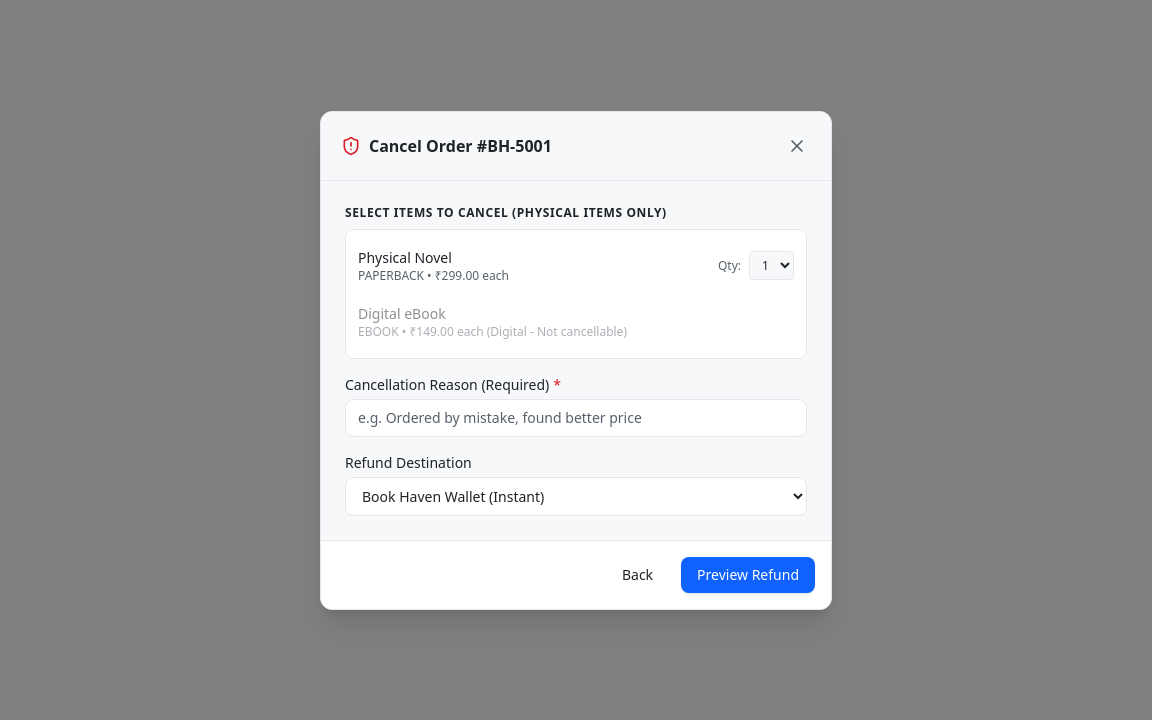
CancelOrderModalTest › previewBeforeConfirm and showsMaskedAccount: previews refund before confirm and displays masked account
Type "Found better deal" into the field labelled "Cancellation Reason (Required)*". click: (576, 418)
box: [345,398,807,436]
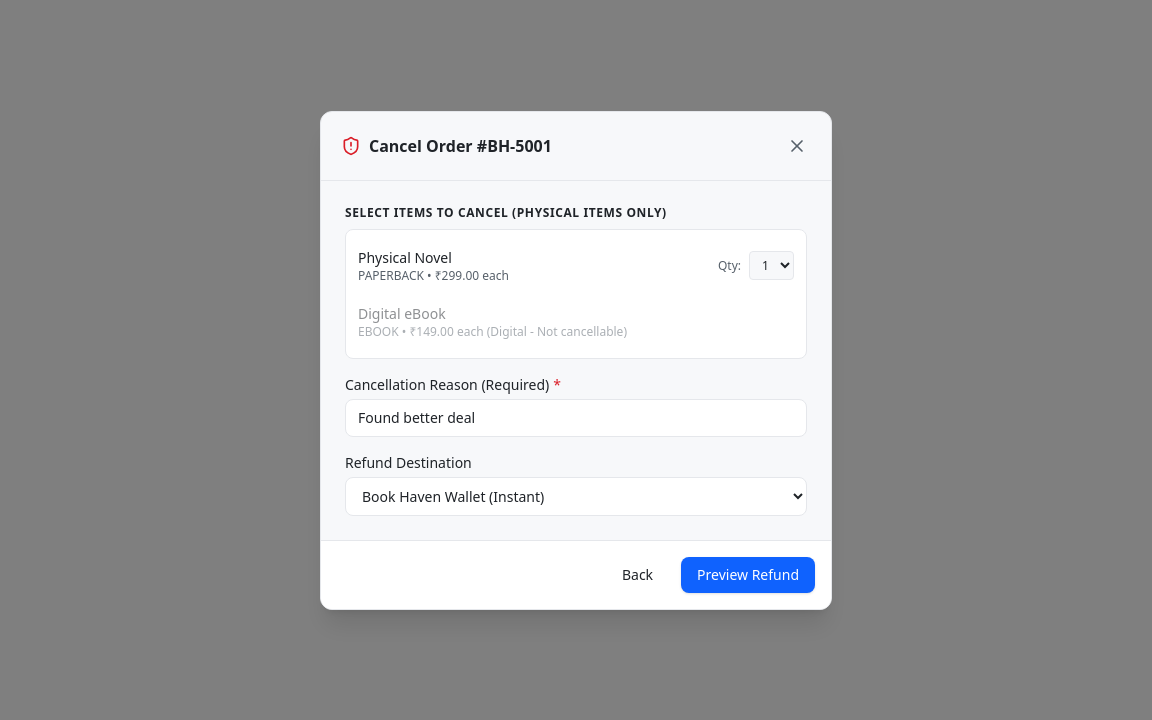
Click the button "Preview Refund". click: click(748, 574)
box: [681,556,815,592]
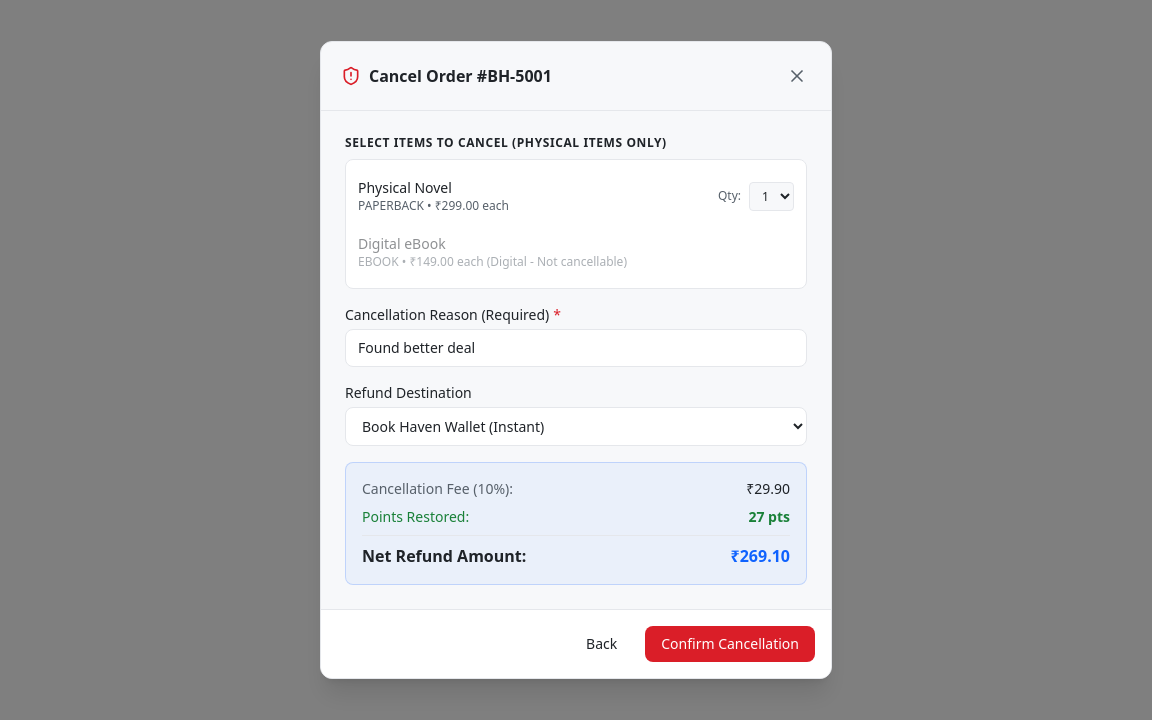
Expected: the text "₹269.10" is shown, [730,544,790,568]
Expected: the text "Cancellation Fee (10%):" is shown, [362,479,513,499]
Click the button "Confirm Cancellation". click: click(730, 644)
box: [645,626,815,662]
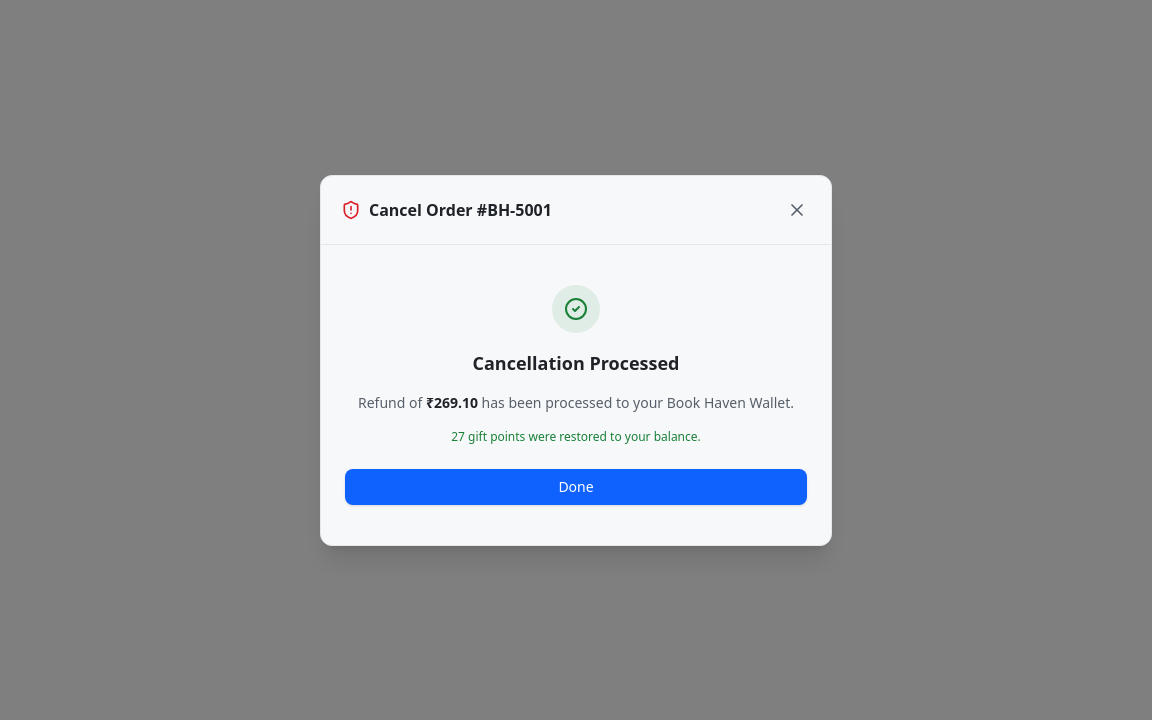
Expected: the heading "Cancellation Processed" is shown, [472,350,679,374]
